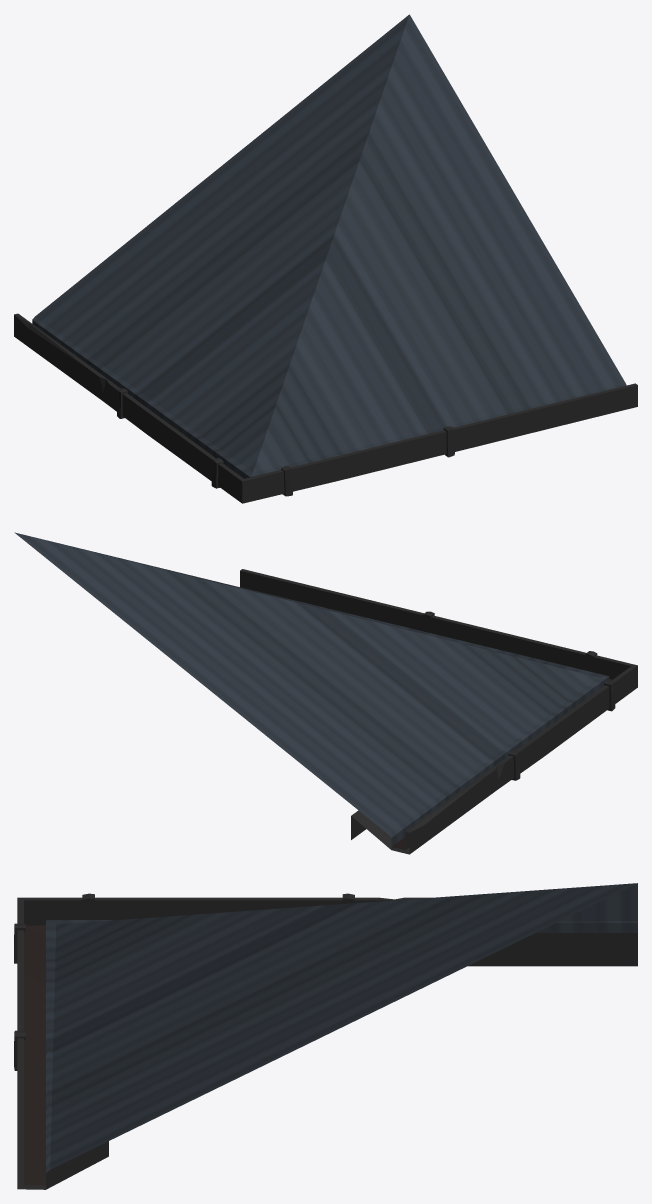
The model's file is SM_Bld_House_Roof_End_03.fbx.
3 views of the same model, one above another, from view 1: azimuth 30°, elevation 25°; view 2: azimuth 150°, elevation 25°; view 3: azimuth 270°, elevation 25° (orthographic). The views are drawn at different scales.
Visible parts, largest first — view 1: SM_Bld_House_Roof_End_03; view 2: SM_Bld_House_Roof_End_03; view 3: SM_Bld_House_Roof_End_03.
Part boxes in pixels (left/top/right/bottom): SM_Bld_House_Roof_End_03: left=14, top=14, right=637, bottom=503; SM_Bld_House_Roof_End_03: left=14, top=532, right=637, bottom=854; SM_Bld_House_Roof_End_03: left=14, top=883, right=637, bottom=1189.
Bounding box in the file's own units: 319 × 175 × 319.
